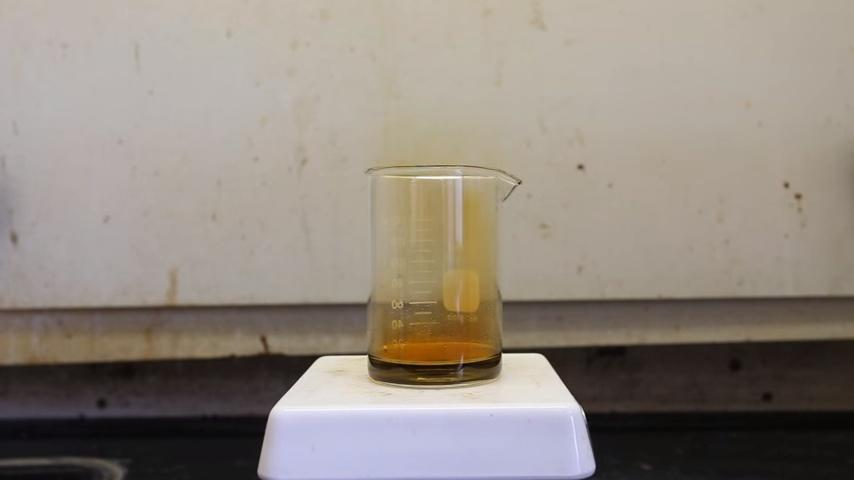Beaker: (357, 163, 525, 386)
